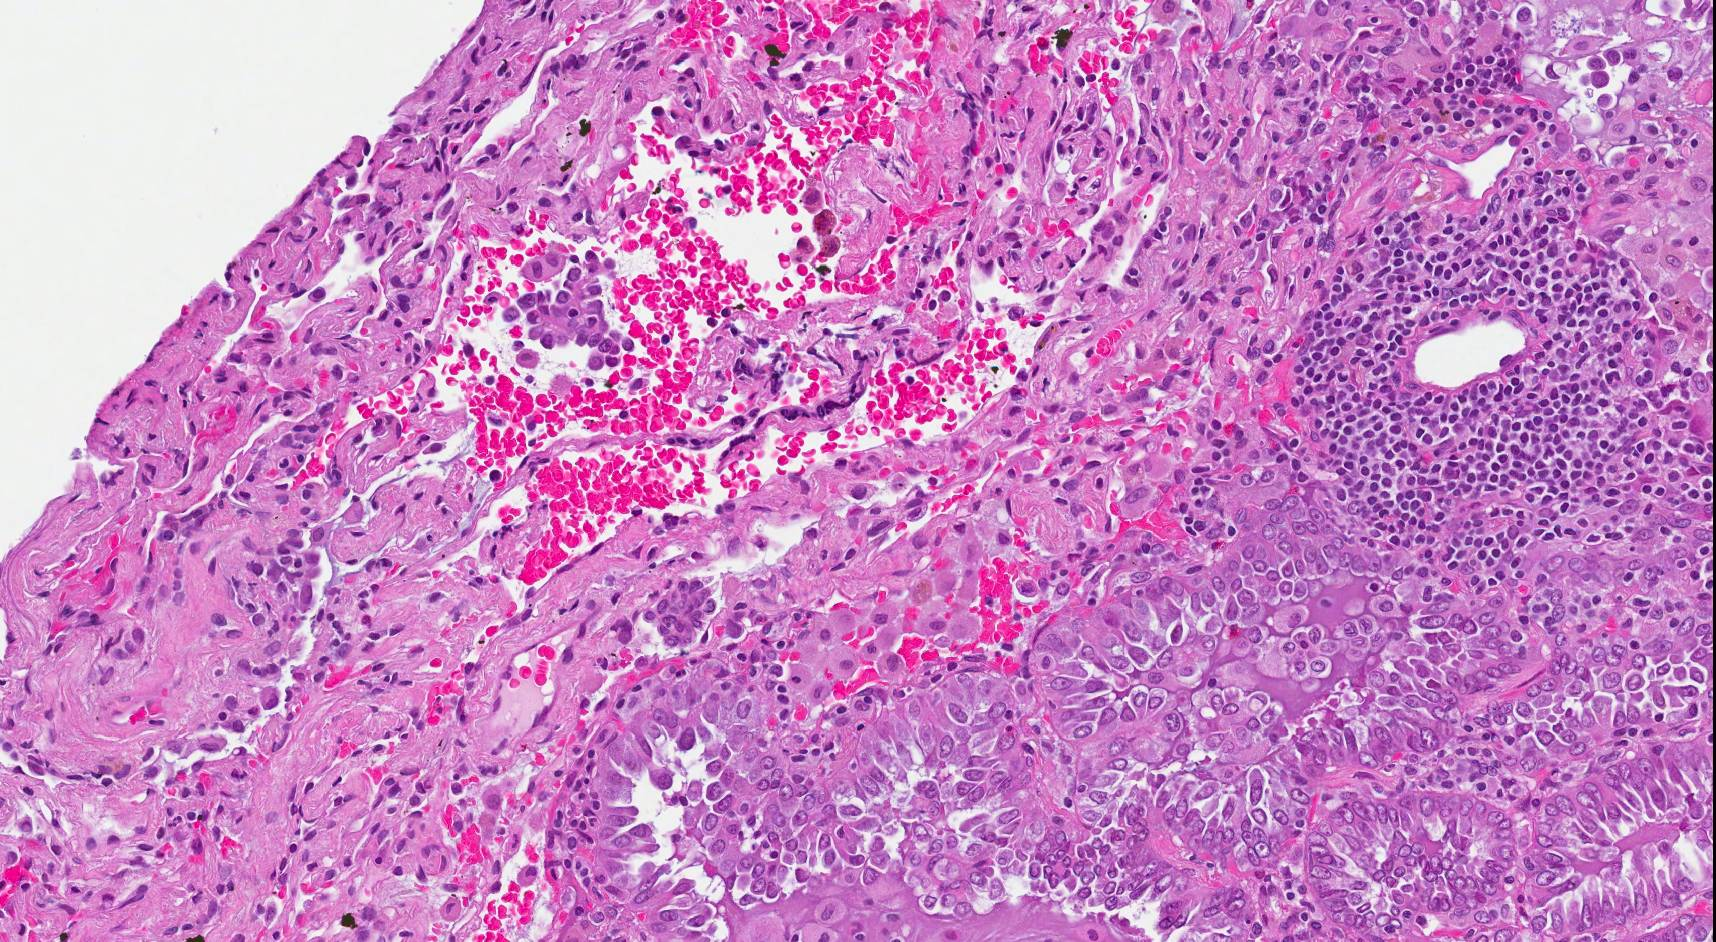stas: (517, 259, 633, 373), (647, 577, 722, 649)
